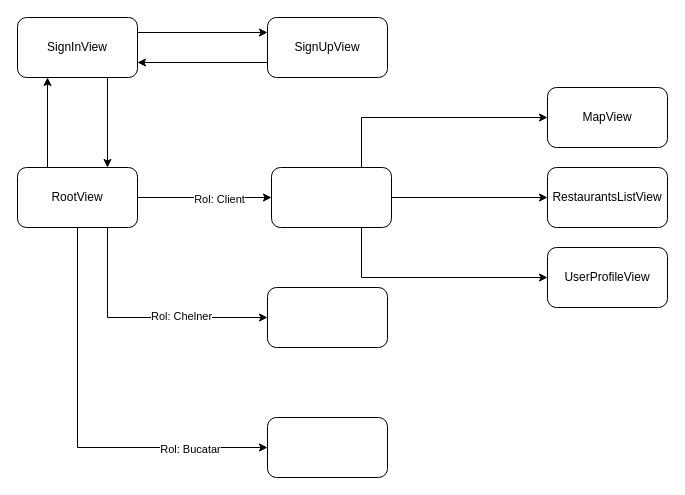
Image size: 685x495. Some labels were removed from this diagram. Here are the shapes that lost their labels. From the top down, the box of each, then its label:
(270, 166, 392, 228): ClientTabView
(266, 286, 388, 348): WaiterView
(266, 416, 388, 478): Cook View
